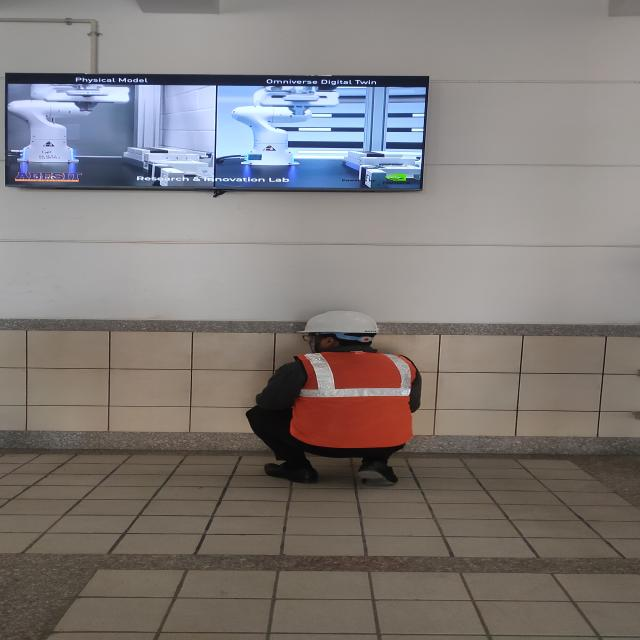safe: (244, 311, 419, 485)
